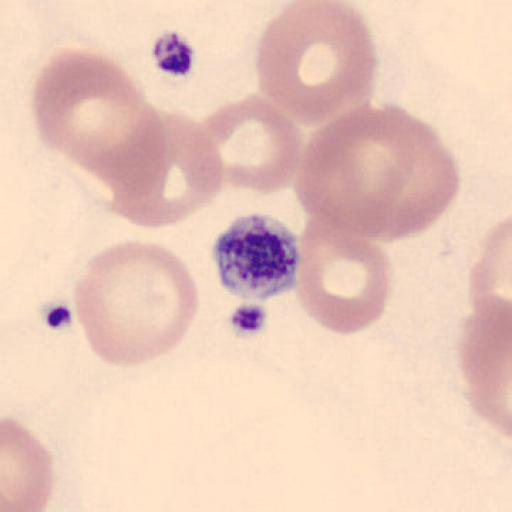Platelet: (208, 211, 304, 302)
RBC: (292, 101, 460, 245), (340, 104, 462, 243), (293, 104, 411, 246), (74, 238, 199, 368), (100, 104, 226, 230), (255, 0, 378, 126), (32, 45, 156, 168), (294, 217, 393, 336), (197, 92, 304, 197), (30, 47, 109, 155), (455, 295, 512, 440), (1, 414, 56, 512), (469, 212, 512, 332)
